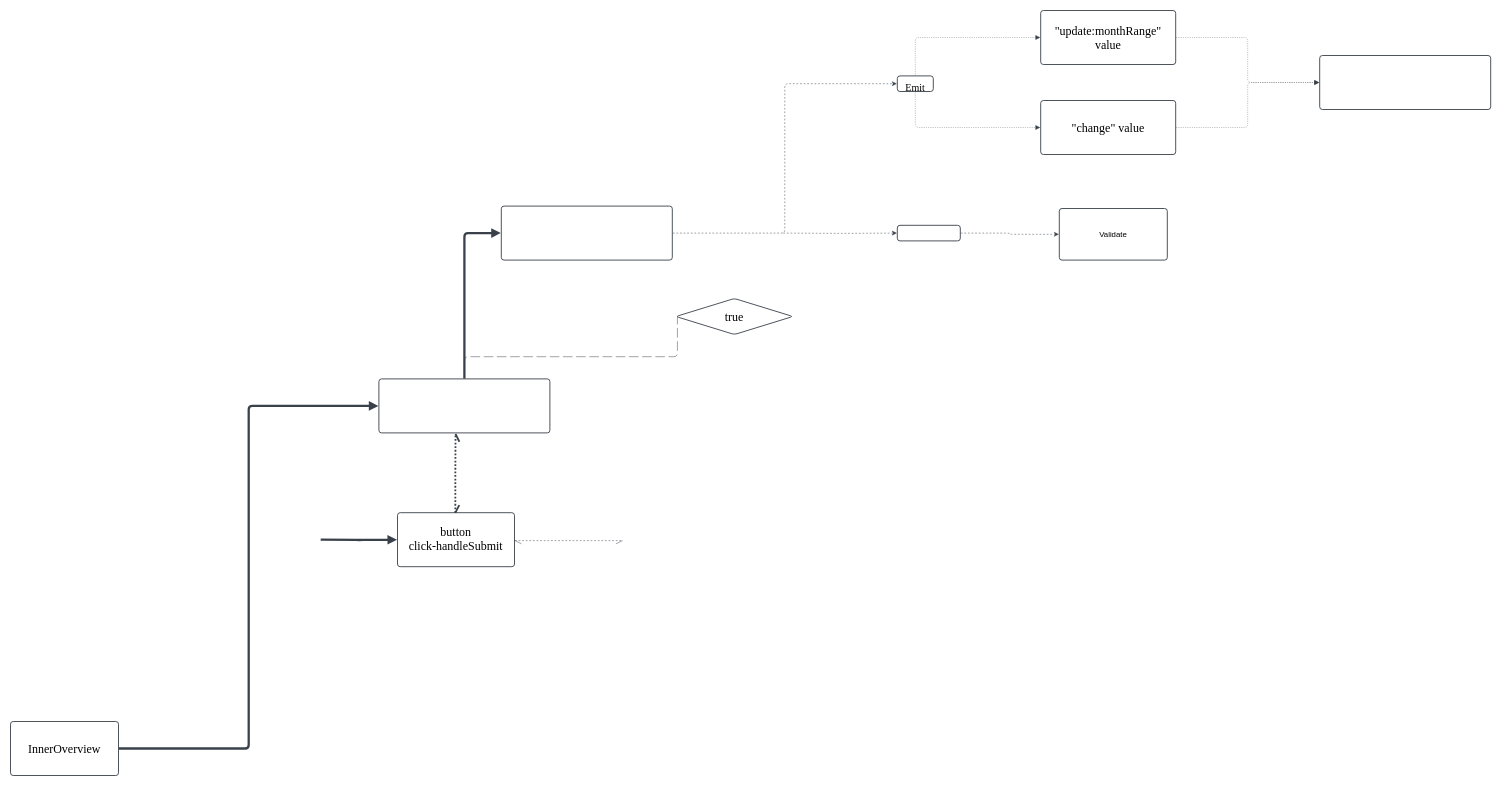
Image size: 1502x787. Some labels were removed from this diagram. Each missing label, with the centre of its shape:
a-range-picker: the point at 586,232
defineExpose: the point at 928,233
monthRange(dayjs)(2): the point at 1405,82
MonthRangeComponent ref="projectMonthRangeDom": the point at 464,405
